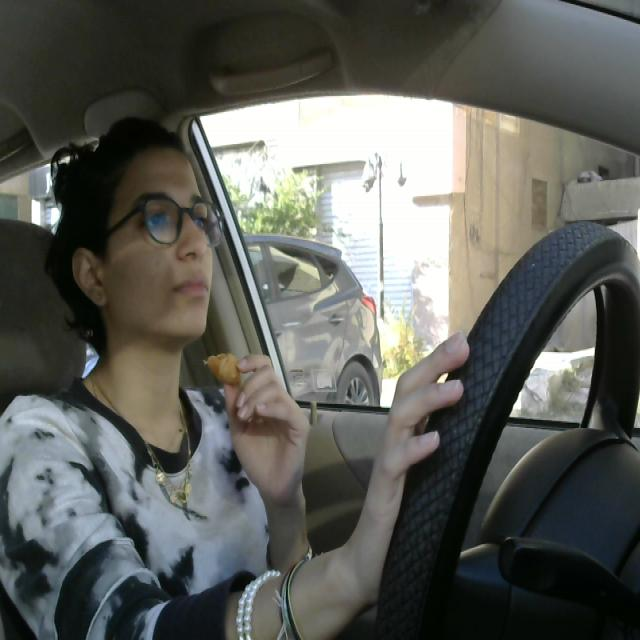eating: (202, 344, 251, 394)
